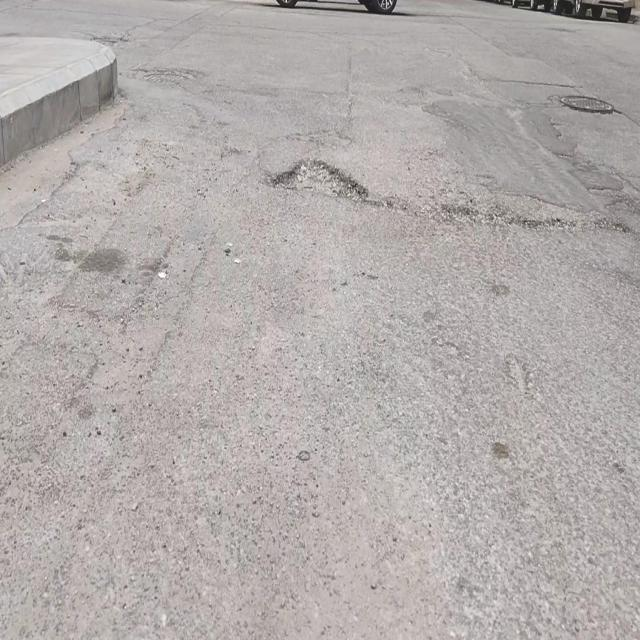Potholes: (272, 154, 363, 200)
